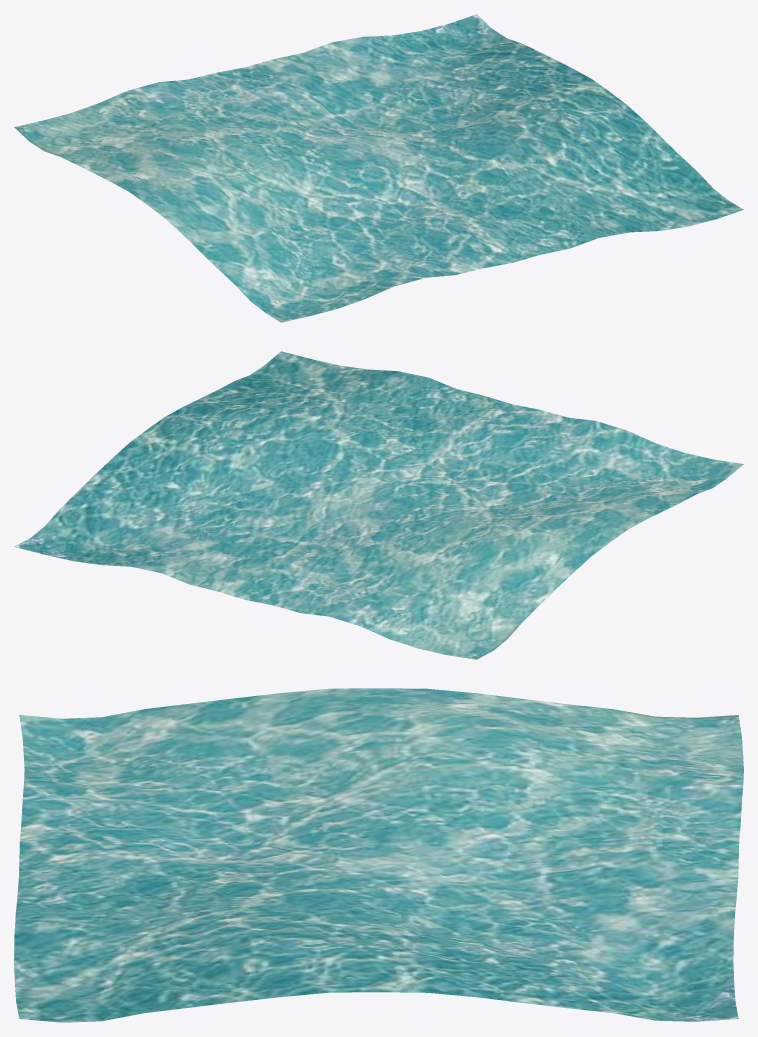
The model's file is water_000020.obj.
The picture shows the model from 3 angles, top to bottom: view 1: azimuth 30°, elevation 25°; view 2: azimuth 150°, elevation 25°; view 3: azimuth 270°, elevation 25°; orthographic projection. The views are drawn at different scales.
Visible parts, largest first — view 1: Plan.003_Plan.001; view 2: Plan.003_Plan.001; view 3: Plan.003_Plan.001.
Part boxes in pixels (x1,y1,x2,y2): Plan.003_Plan.001: [14, 14, 743, 322]; Plan.003_Plan.001: [14, 351, 743, 659]; Plan.003_Plan.001: [14, 688, 743, 1022].
Bounding box in the file's own units: 60535 × 3900 × 61224.
Materials: 1 (1 with a texture image).
